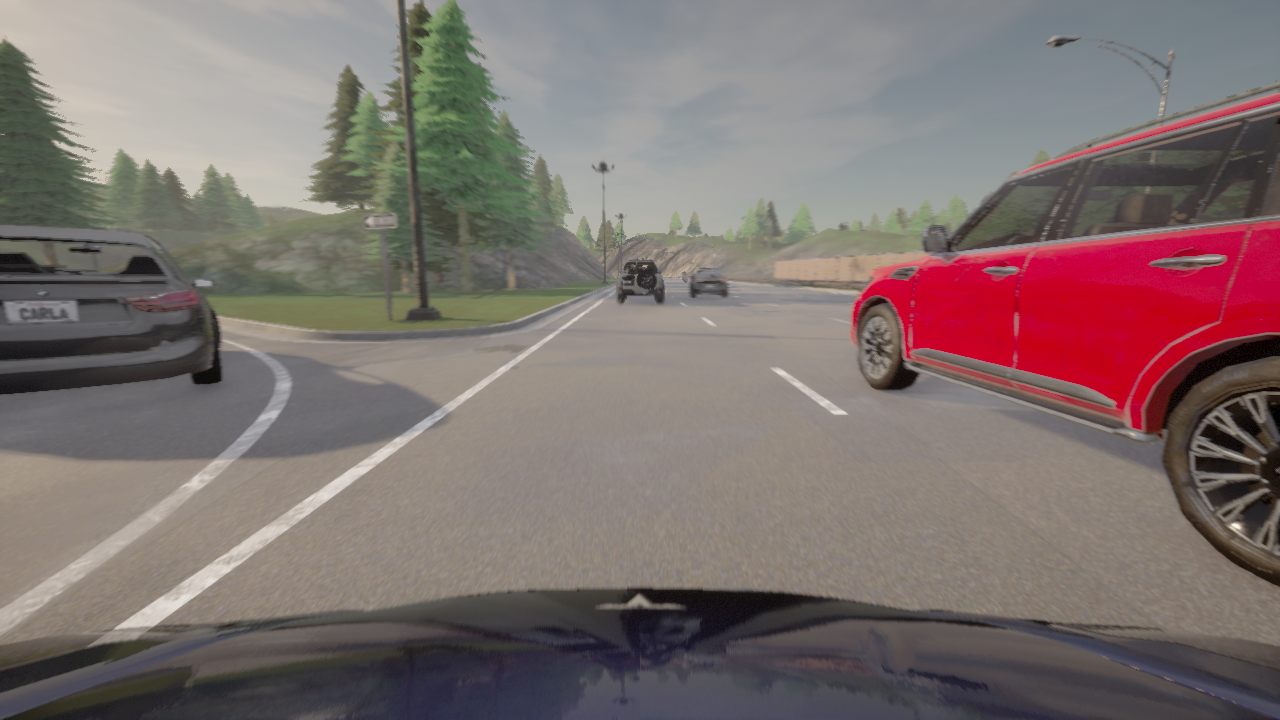cyclist: (850, 82, 1279, 587), (0, 588, 1279, 719), (617, 259, 663, 302), (690, 268, 727, 296), (683, 276, 685, 281), (690, 279, 692, 282)
